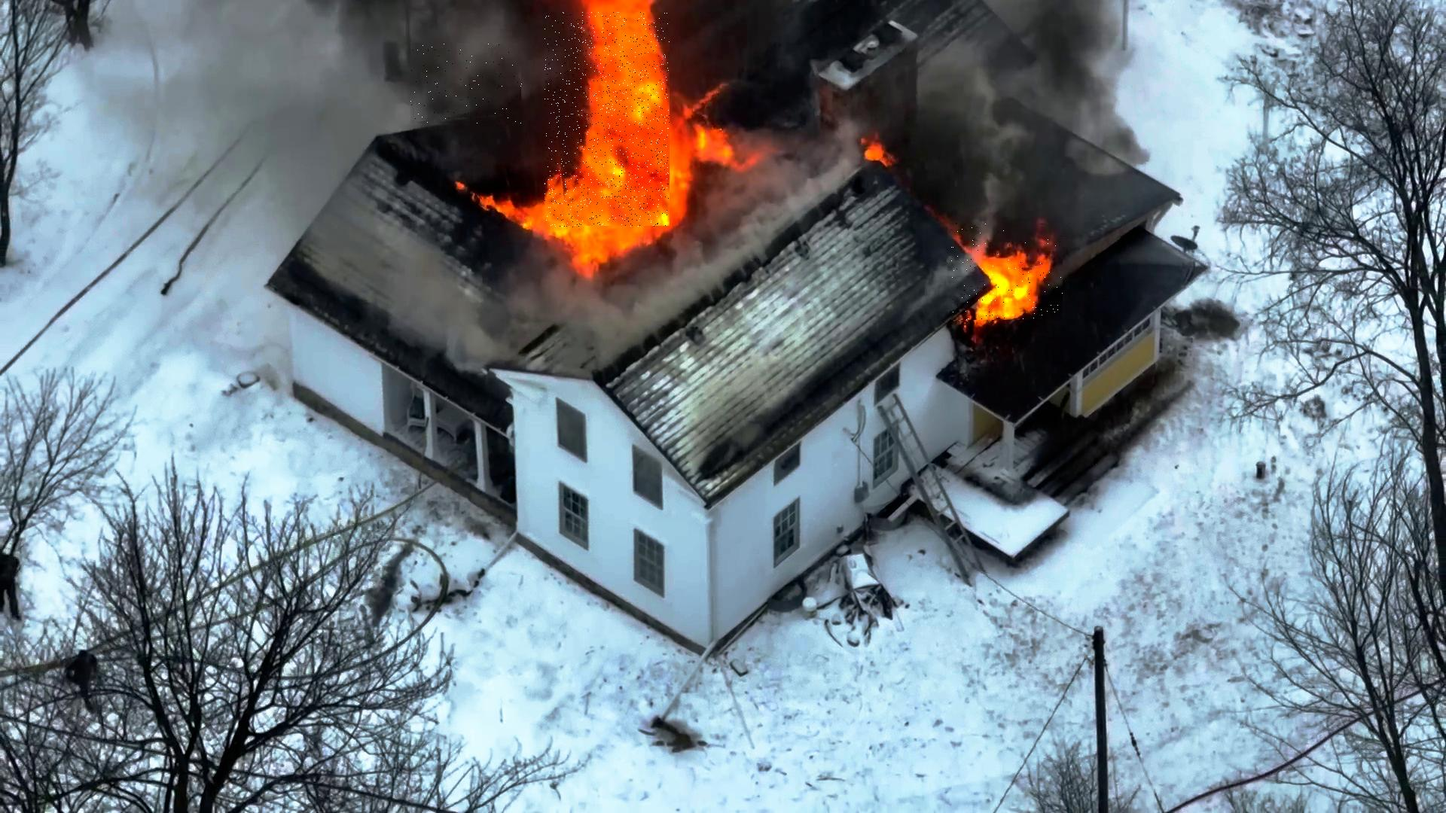fire: (545, 13, 670, 228), (949, 222, 1063, 320)
smoke: (411, 44, 523, 124)
